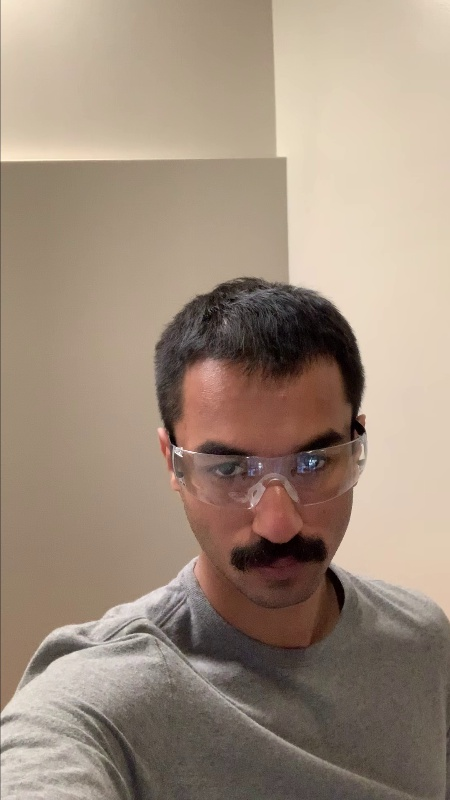glasses: (167, 429, 372, 504)
